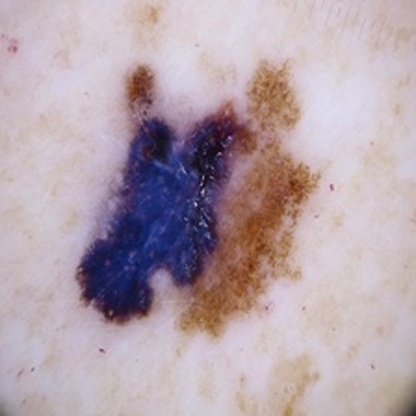malignant: (70, 121, 261, 314)
